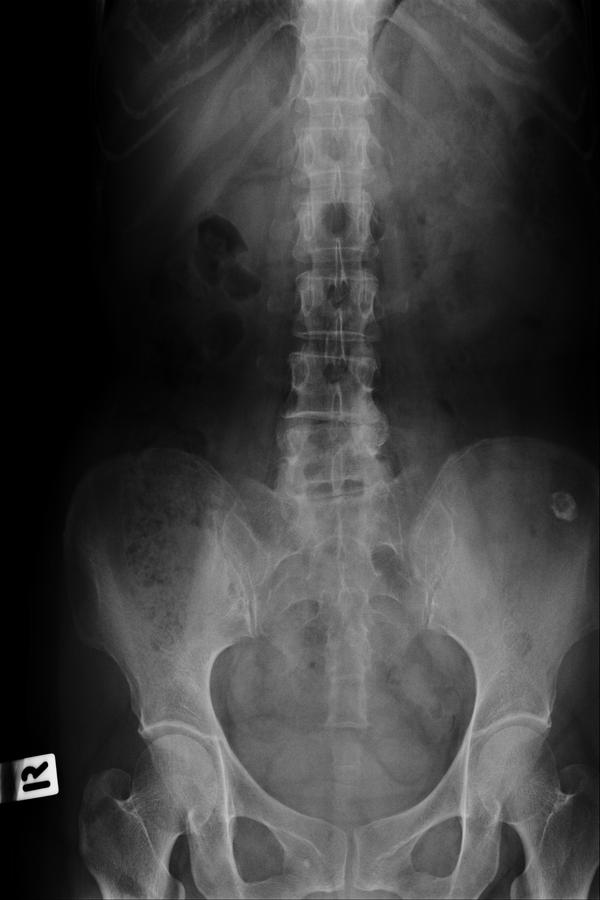not lumbar scoliosis: (271, 194, 400, 487)
